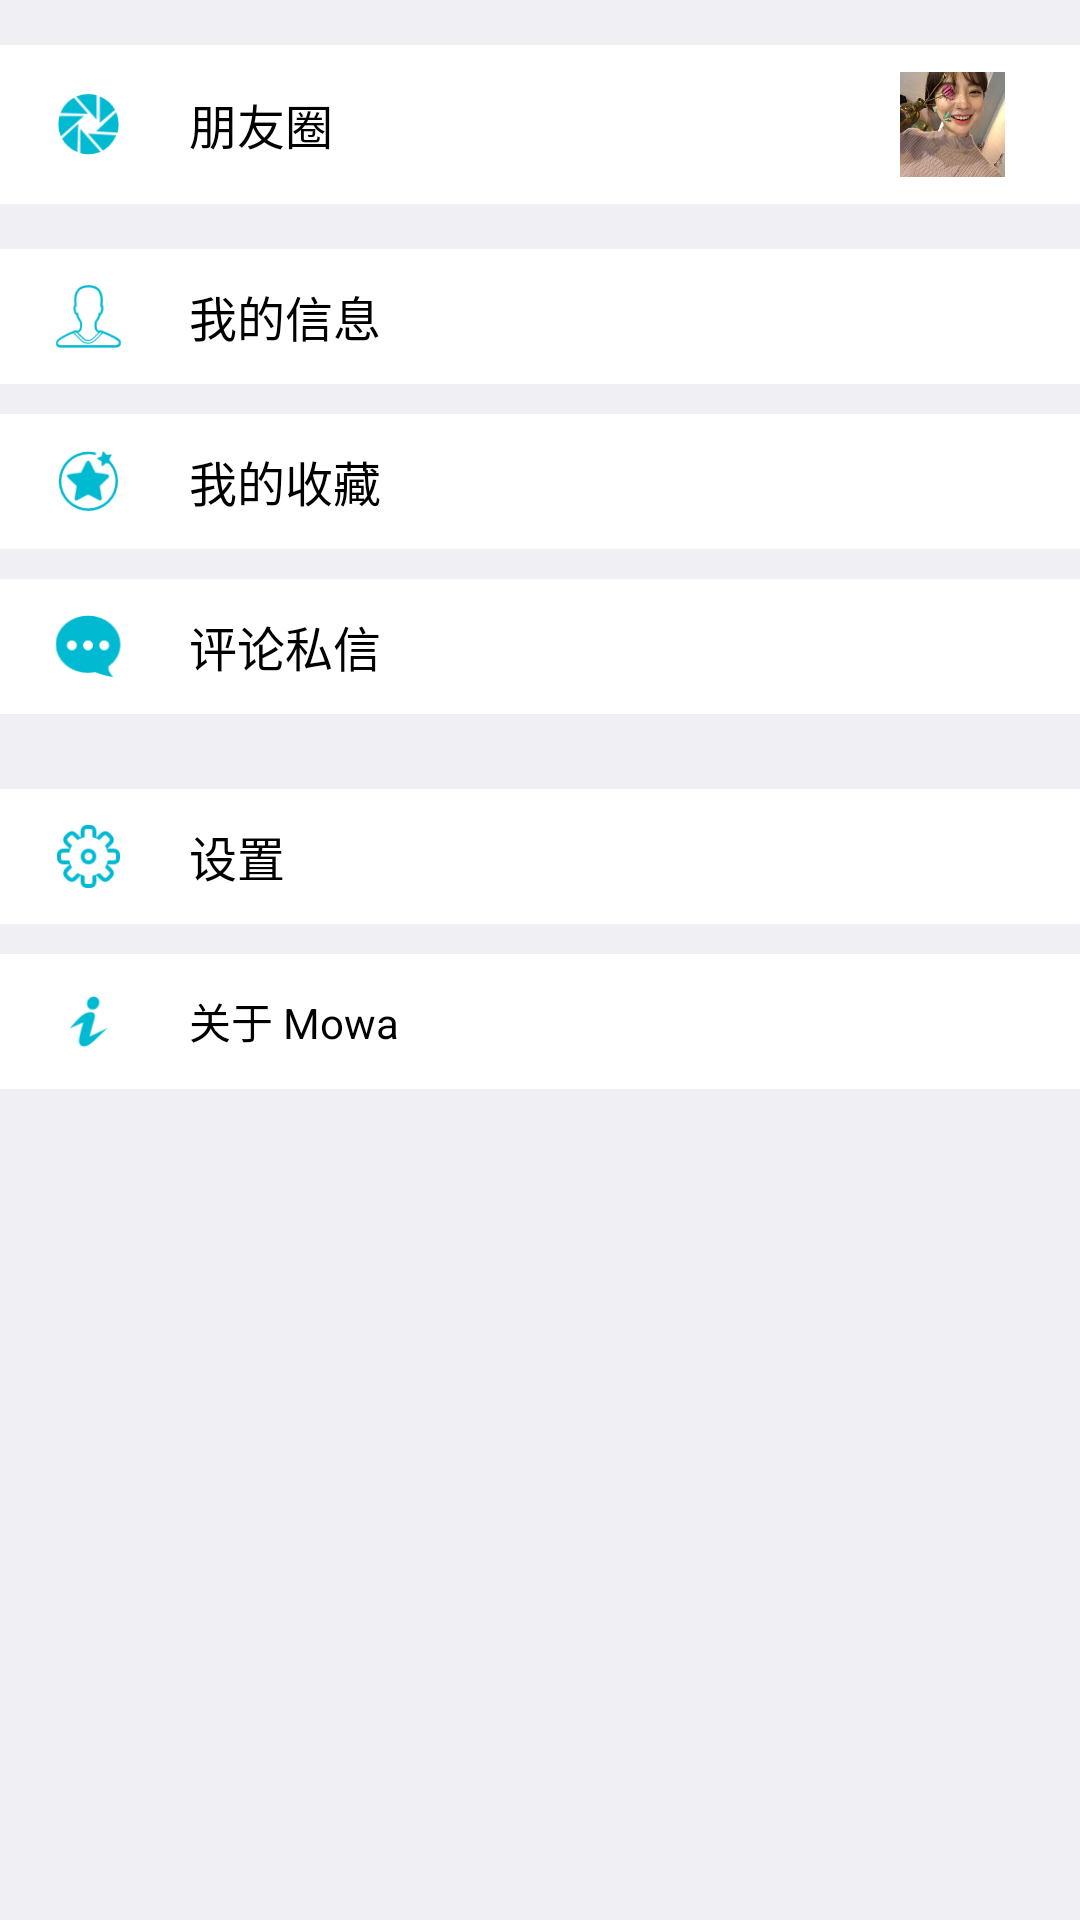

Named icons in this screenshot (1080px x 1920px) and their centers, (x,y):
guanyu: (88,1021)
setimage: (88,856)
shouc: (88,481)
userset: (88,316)
